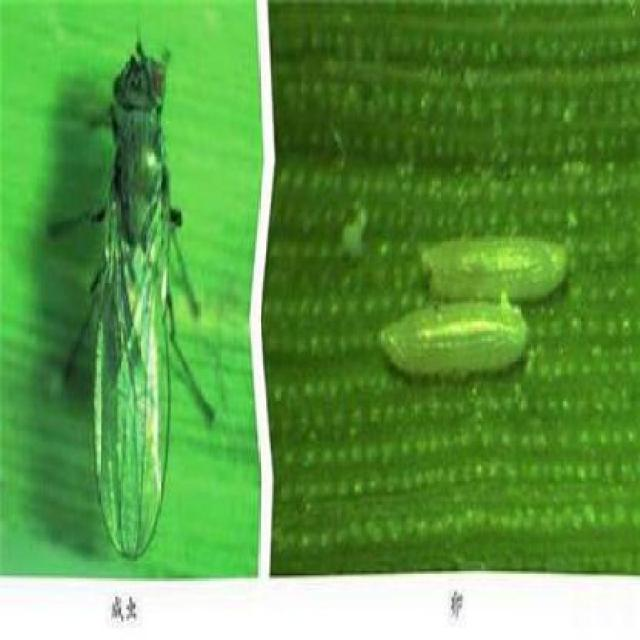whorl-maggot: (407, 212, 570, 311), (375, 299, 534, 386)
